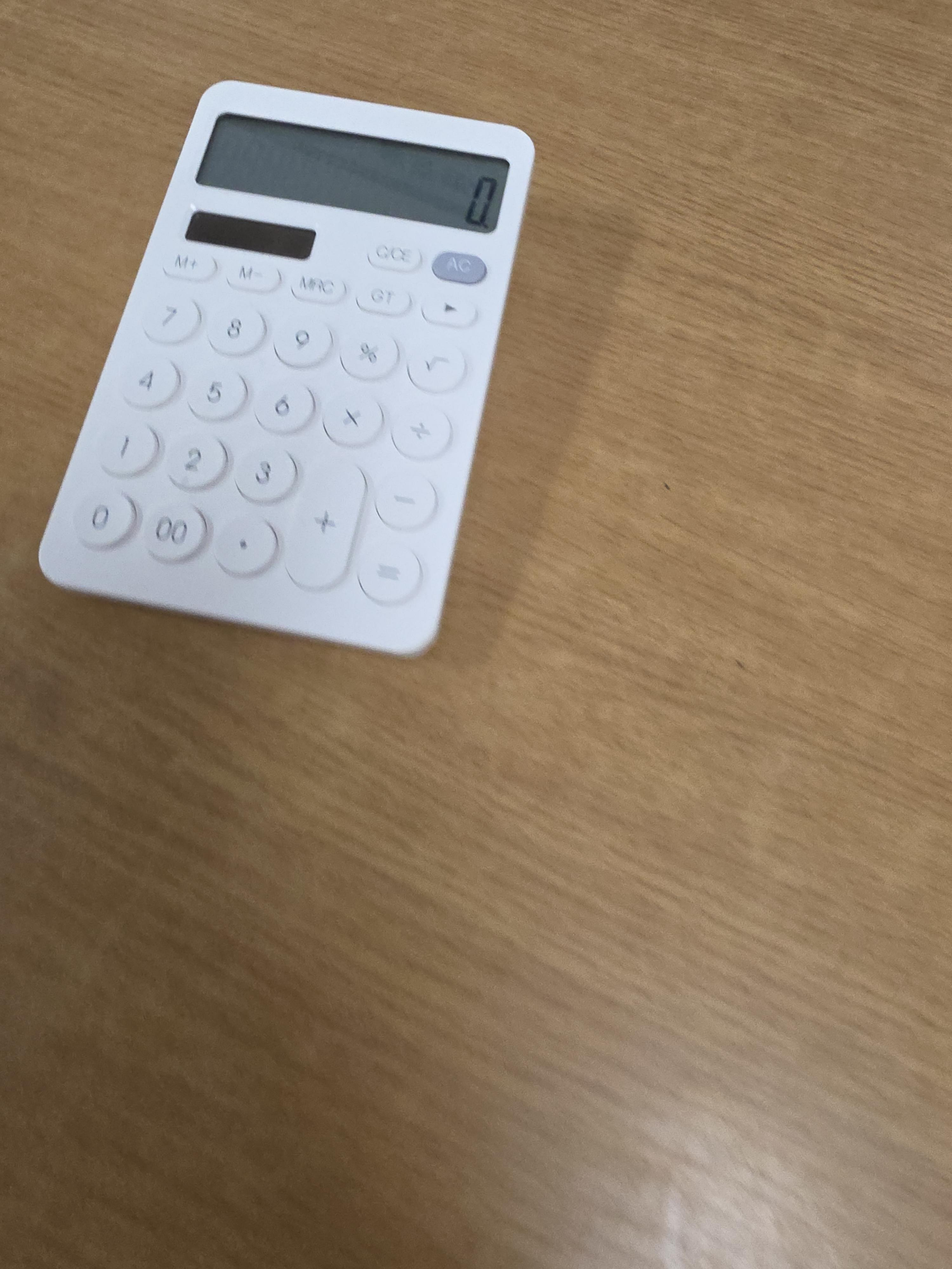calculator: (38, 81, 536, 654)
